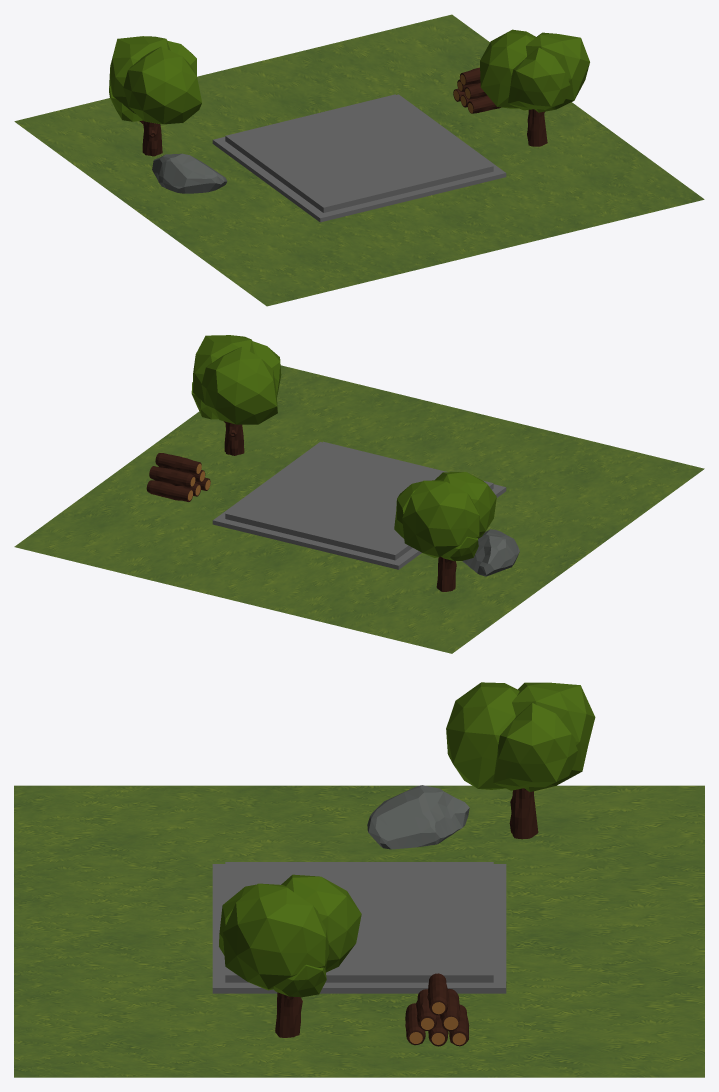
Rendered from island.obj.
3 views of the same model, one above another, from view 1: azimuth 30°, elevation 25°; view 2: azimuth 150°, elevation 25°; view 3: azimuth 270°, elevation 25° (orthographic). The views are drawn at different scales.
Visible parts, largest first — view 1: Plane, Arena_Arena_material, Icosphere.001_Icosphere.000, Icosphere_Icosphere.001, Stone01_LOW, Cylinder.001, Cylinder_Cylinder.000; view 2: Plane, Arena_Arena_material, Icosphere_Icosphere.001, Icosphere.001_Icosphere.000, Stone01_LOW, Wood.003_Cylinder.008, Wood.005_Cylinder.010, Wood.002_Cylinder.007, Cylinder.001, Cylinder_Cylinder.000; view 3: Plane, Arena_Arena_material, Icosphere_Icosphere.001, Icosphere.001_Icosphere.000, Stone01_LOW, Cylinder_Cylinder.000, Cylinder.001, Wood.005_Cylinder.010.
Part boxes in pixels (x1,y1,x2,y2): Plane: (14,14,704,306); Arena_Arena_material: (212,94,506,222); Icosphere.001_Icosphere.000: (480,29,589,112); Icosphere_Icosphere.001: (109,36,201,124); Stone01_LOW: (152,153,227,193); Cylinder.001: (527,109,547,146); Cylinder_Cylinder.000: (139,120,162,156); Plane: (14,365,704,653); Arena_Arena_material: (212,441,506,569); Icosphere_Icosphere.001: (394,472,496,561); Icosphere.001_Icosphere.000: (191,335,281,424); Stone01_LOW: (462,529,519,576); Wood.003_Cylinder.008: (149,466,195,487); Wood.005_Cylinder.010: (155,453,201,474); Wood.002_Cylinder.007: (146,480,193,501); Cylinder.001: (224,421,244,455); Cylinder_Cylinder.000: (436,556,456,591); Plane: (14,785,704,1077); Arena_Arena_material: (212,862,506,993); Icosphere_Icosphere.001: (446,682,595,791); Icosphere.001_Icosphere.000: (219,874,361,997); Stone01_LOW: (367,785,469,849); Cylinder_Cylinder.000: (509,788,538,839); Cylinder.001: (275,992,302,1037); Wood.005_Cylinder.010: (427,973,448,1015).
Bounding box in the file's own units: 47.41 × 13.44 × 47.41.
Materials: 6 (1 with a texture image).
